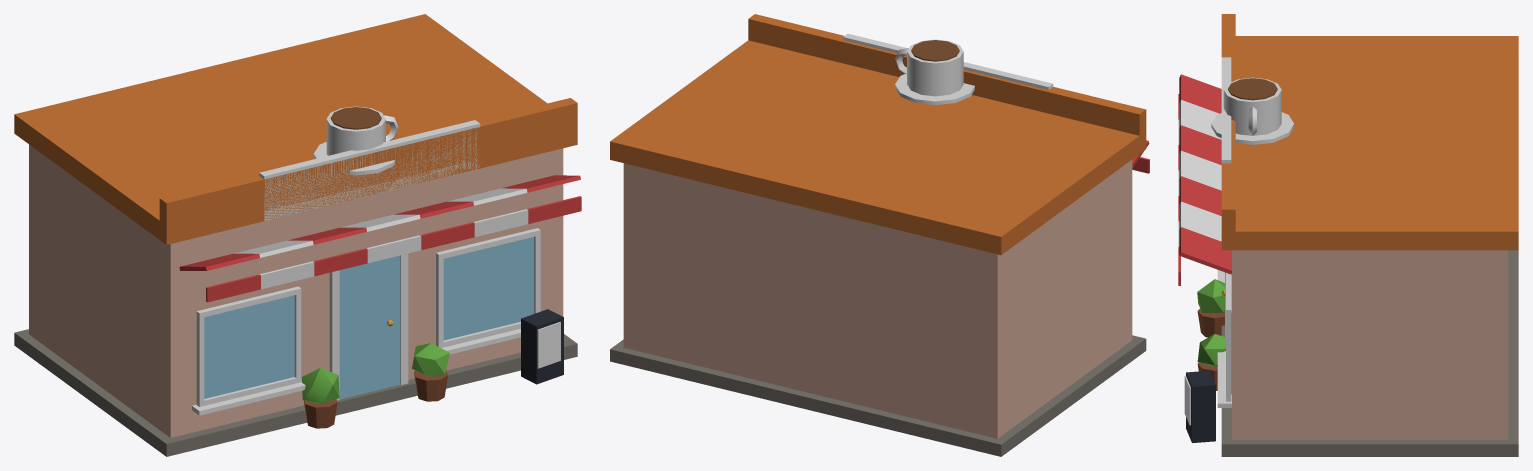
The model's file is cafe.gltf.
3 renders of one model, left to right at view 1: azimuth 30°, elevation 25°; view 2: azimuth 150°, elevation 25°; view 3: azimuth 270°, elevation 25°, orthographic. The views are drawn at different scales.
Parts seen in each view (by area): view 1: cafe; view 2: cafe; view 3: cafe.
Part boxes in pixels (x1,y1,x2,y2): cafe: (14, 14, 581, 456); cafe: (610, 14, 1149, 456); cafe: (1178, 14, 1518, 456).
Size of the model in its own units: 6.7 by 4.32 by 4.93.
